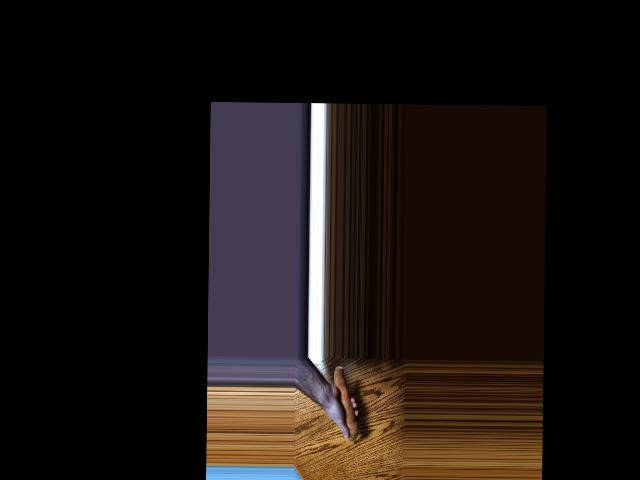sweet_potato: (331, 365, 359, 440)
